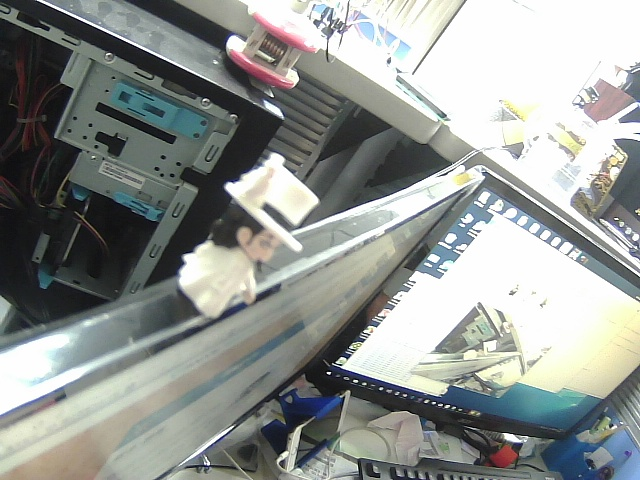lucci: (172, 152, 318, 324)
